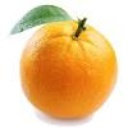orange: (6, 3, 119, 122)
